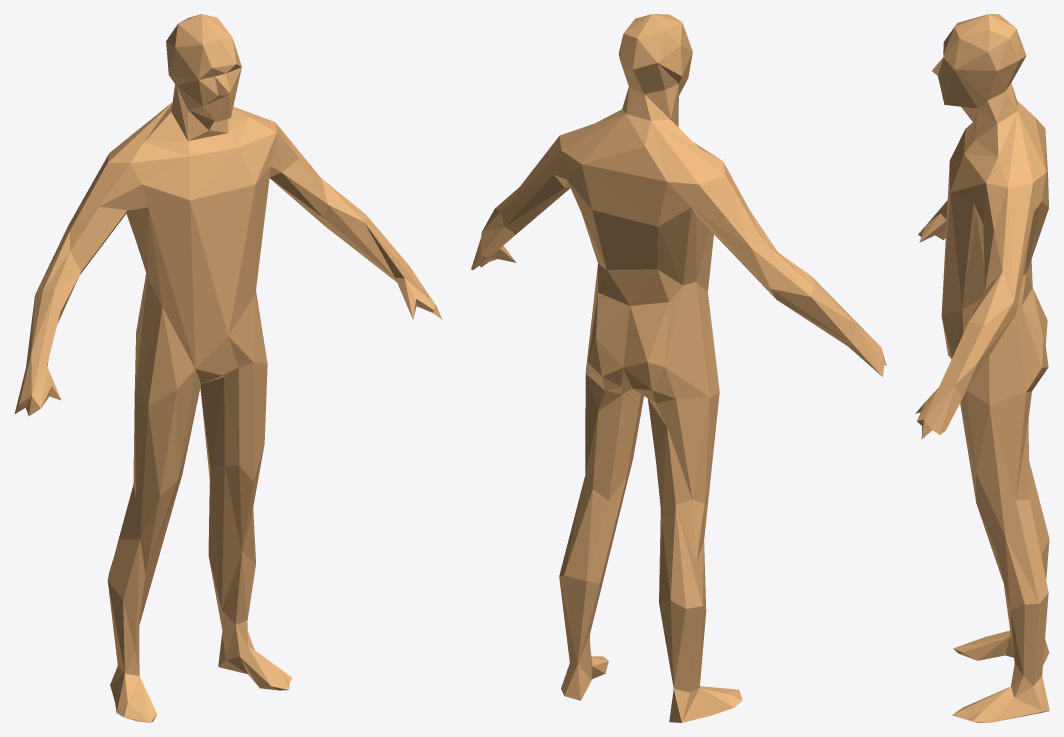
The model's file is Humano.fbx.
The picture shows the model from 3 angles, left to right: view 1: azimuth 30°, elevation 25°; view 2: azimuth 150°, elevation 25°; view 3: azimuth 270°, elevation 25°; orthographic projection.
Visible parts, largest first — view 1: Low Poly Human; view 2: Low Poly Human; view 3: Low Poly Human.
Boxes of the visible parts, x1,y1,x2,y2 form: Low Poly Human: (14, 14, 442, 722); Low Poly Human: (471, 14, 886, 722); Low Poly Human: (915, 14, 1049, 722).
Size of the model in its own units: 8444 by 13241 by 2397.
